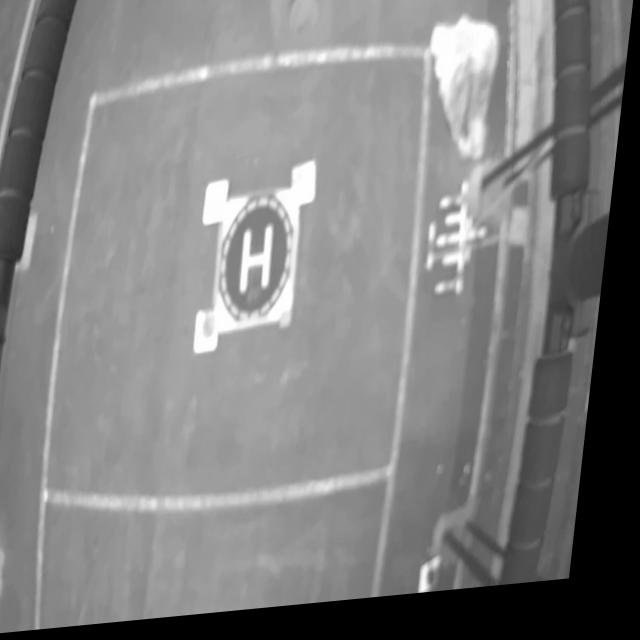Helipad: (246, 230, 280, 300)
